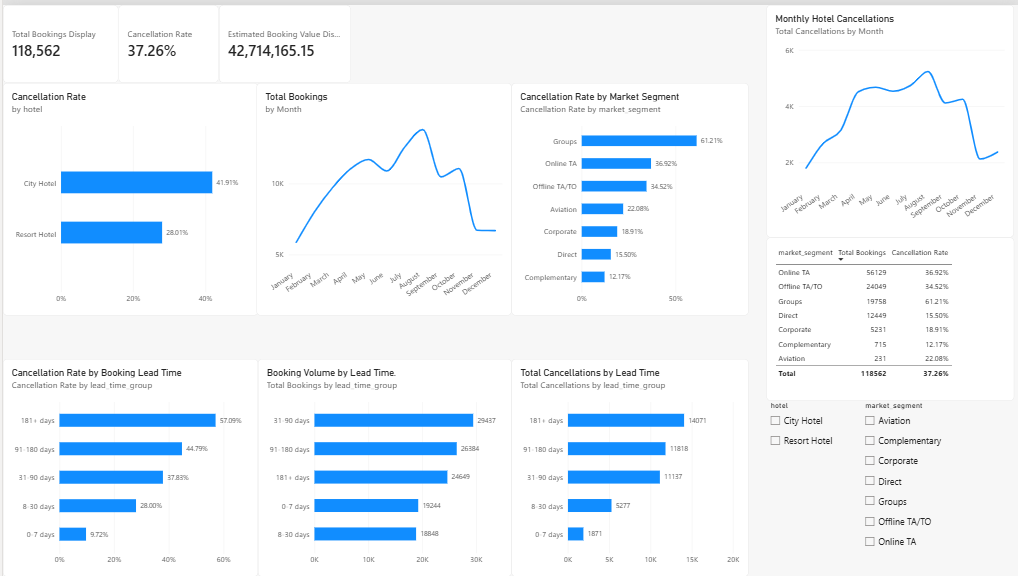

The page's visual inventory and layout, read from the dashboard file:
{"tool":"powerbi","page":{"name":"Executive Overview","canvas":[1920,1080],"ordinal":0},"visuals":[{"type":"cardVisual","fields":{"Data":["HotelIQ_SQL_Ready.Total Bookings Display"]},"box":[0,0,218.3,147.4],"z":0},{"type":"cardVisual","fields":{"Data":["HotelIQ_SQL_Ready.Cancellation Rate"]},"box":[218.3,0,189.9,147.4],"z":1000},{"type":"cardVisual","fields":{"Data":["HotelIQ_SQL_Ready.Estimated Booking Value Display"]},"box":[408.2,0,249.5,147.4],"z":2000},{"type":"clusteredBarChart","fields":{"Category":["HotelIQ_SQL_Ready.hotel"],"Y":["HotelIQ_SQL_Ready.Cancellation Rate"]},"box":[0,147.4,482,439],"z":3000},{"type":"lineChart","fields":{"Category":["HotelIQ_SQL_Ready.arrival_date.Variation.Date Hierarchy.Year","HotelIQ_SQL_Ready.arrival_date.Variation.Date Hierarchy.Quarter","HotelIQ_SQL_Ready.arrival_date.Variation.Date Hierarchy.Month"],"Y":["HotelIQ_SQL_Ready.Total Bookings"]},"box":[479.1,147.4,481.9,439.4],"z":4000},{"type":"lineChart","title":"Monthly Hotel Cancellations","fields":{"Category":["HotelIQ_SQL_Ready.arrival_date.Variation.Date Hierarchy.Year","HotelIQ_SQL_Ready.arrival_date.Variation.Date Hierarchy.Quarter","HotelIQ_SQL_Ready.arrival_date.Variation.Date Hierarchy.Month","HotelIQ_SQL_Ready.arrival_date.Variation.Date Hierarchy.Day"],"Y":["HotelIQ_SQL_Ready.Total Cancellations"]},"box":[1442.8,0,467,439],"z":4001},{"type":"clusteredBarChart","title":"Cancellation Rate by Market Segment","fields":{"Category":["HotelIQ_SQL_Ready.market_segment"],"Y":["HotelIQ_SQL_Ready.Cancellation Rate"]},"box":[961,147.4,447.9,439.4],"z":4002},{"type":"tableEx","fields":{"Values":["HotelIQ_SQL_Ready.market_segment","HotelIQ_SQL_Ready.Total Bookings","HotelIQ_SQL_Ready.Cancellation Rate"]},"box":[1442.8,439.4,467.7,309],"z":4003},{"type":"clusteredBarChart","title":"Cancellation Rate by Booking Lead Time","fields":{"Category":["HotelIQ_SQL_Ready.lead_time_group"],"Y":["HotelIQ_SQL_Ready.Cancellation Rate"]},"box":[0,668.5,482,411.5],"z":4004},{"type":"clusteredBarChart","title":"Booking Volume by Lead Time.","fields":{"Category":["HotelIQ_SQL_Ready.lead_time_group"],"Y":["HotelIQ_SQL_Ready.Total Bookings"]},"box":[482,669,479,411],"z":4005},{"type":"clusteredBarChart","title":"Total Cancellations by Lead Time","fields":{"Category":["HotelIQ_SQL_Ready.lead_time_group"],"Y":["HotelIQ_SQL_Ready.Total Cancellations"]},"box":[961,669,448,411],"z":4006},{"type":"slicer","fields":{"Values":["HotelIQ_SQL_Ready.hotel"]},"box":[1442.8,748.4,232.4,124.7],"z":4007},{"type":"slicer","fields":{"Values":["HotelIQ_SQL_Ready.market_segment"]},"box":[1621.4,748.4,297.6,331.7],"z":4008}]}

Visuals, with their boxes in screenshot pixels (x1, y1, x2, y2), scaled from the page's 1920x1080 canvas onto the 1018x576 screenshot:
cardVisual - HotelIQ_SQL_Ready.Total Bookings Display: <region>0, 0, 116, 79</region>
cardVisual - HotelIQ_SQL_Ready.Cancellation Rate: <region>116, 0, 216, 79</region>
cardVisual - HotelIQ_SQL_Ready.Estimated Booking Value Display: <region>216, 0, 349, 79</region>
clusteredBarChart - HotelIQ_SQL_Ready.hotel x HotelIQ_SQL_Ready.Cancellation Rate: <region>0, 79, 256, 313</region>
lineChart - HotelIQ_SQL_Ready.arrival_date.Variation.Date Hierarchy.Year x HotelIQ_SQL_Ready.arrival_date.Variation.Date Hierarchy.Quarter: <region>254, 79, 510, 313</region>
"Monthly Hotel Cancellations" lineChart: <region>765, 0, 1013, 234</region>
"Cancellation Rate by Market Segment" clusteredBarChart: <region>510, 79, 747, 313</region>
tableEx - HotelIQ_SQL_Ready.market_segment x HotelIQ_SQL_Ready.Total Bookings: <region>765, 234, 1013, 399</region>
"Cancellation Rate by Booking Lead Time" clusteredBarChart: <region>0, 357, 256, 575</region>
"Booking Volume by Lead Time." clusteredBarChart: <region>256, 357, 510, 575</region>
"Total Cancellations by Lead Time" clusteredBarChart: <region>510, 357, 747, 575</region>
slicer - HotelIQ_SQL_Ready.hotel: <region>765, 399, 888, 466</region>
slicer - HotelIQ_SQL_Ready.market_segment: <region>860, 399, 1017, 575</region>
